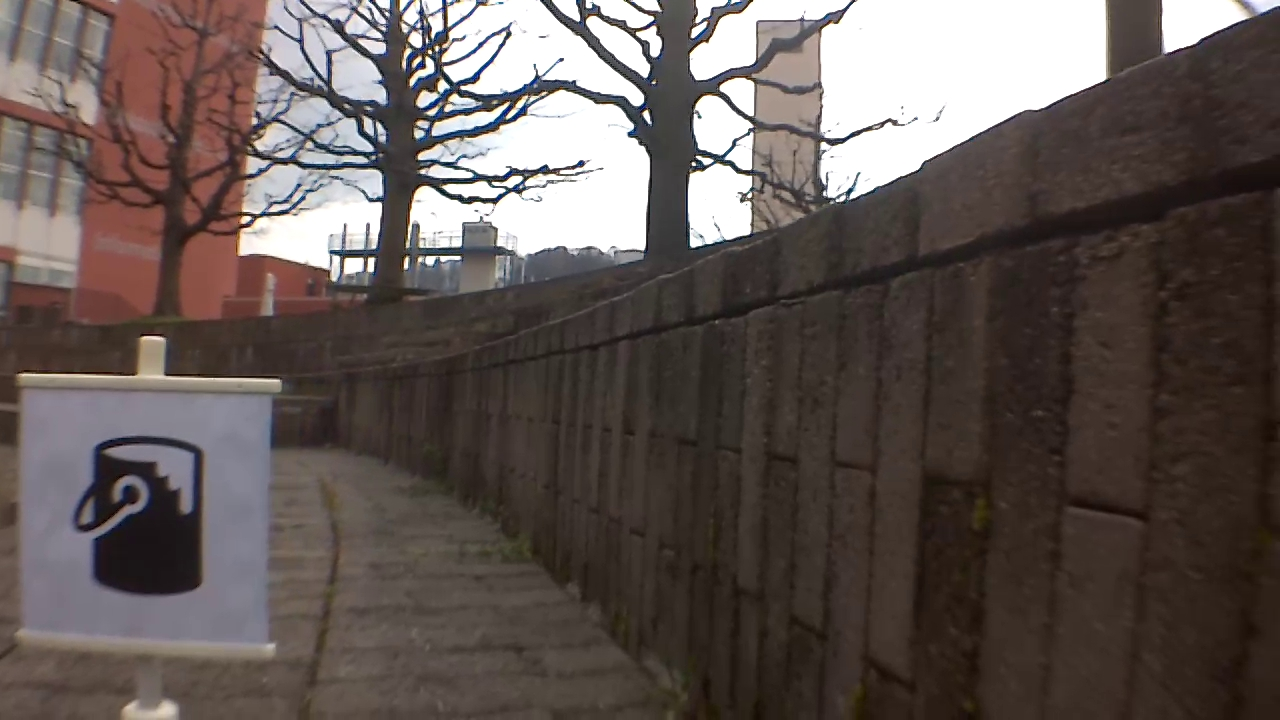bucket: (81, 426, 205, 595)
